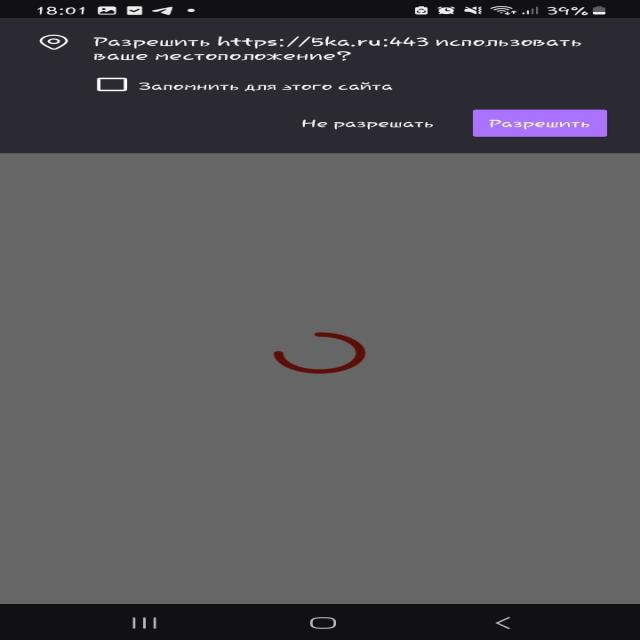button: (282, 110, 449, 137), (476, 111, 616, 137)
system: (0, 16, 640, 151)
